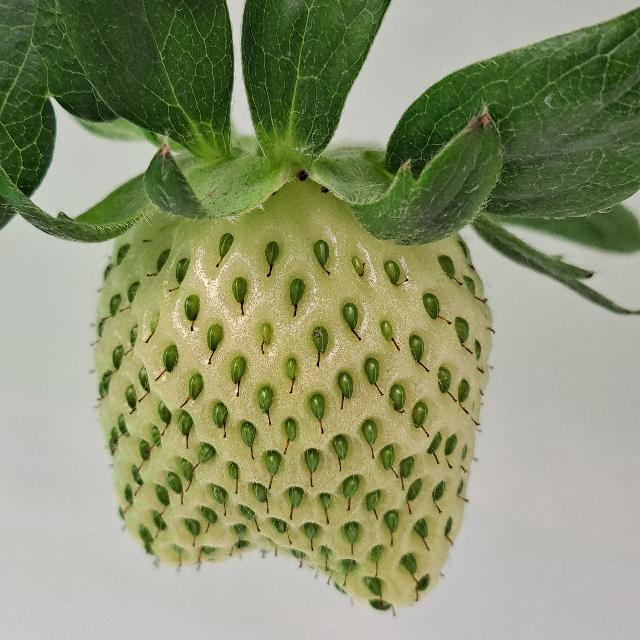Health_25: (93, 169, 493, 611)
